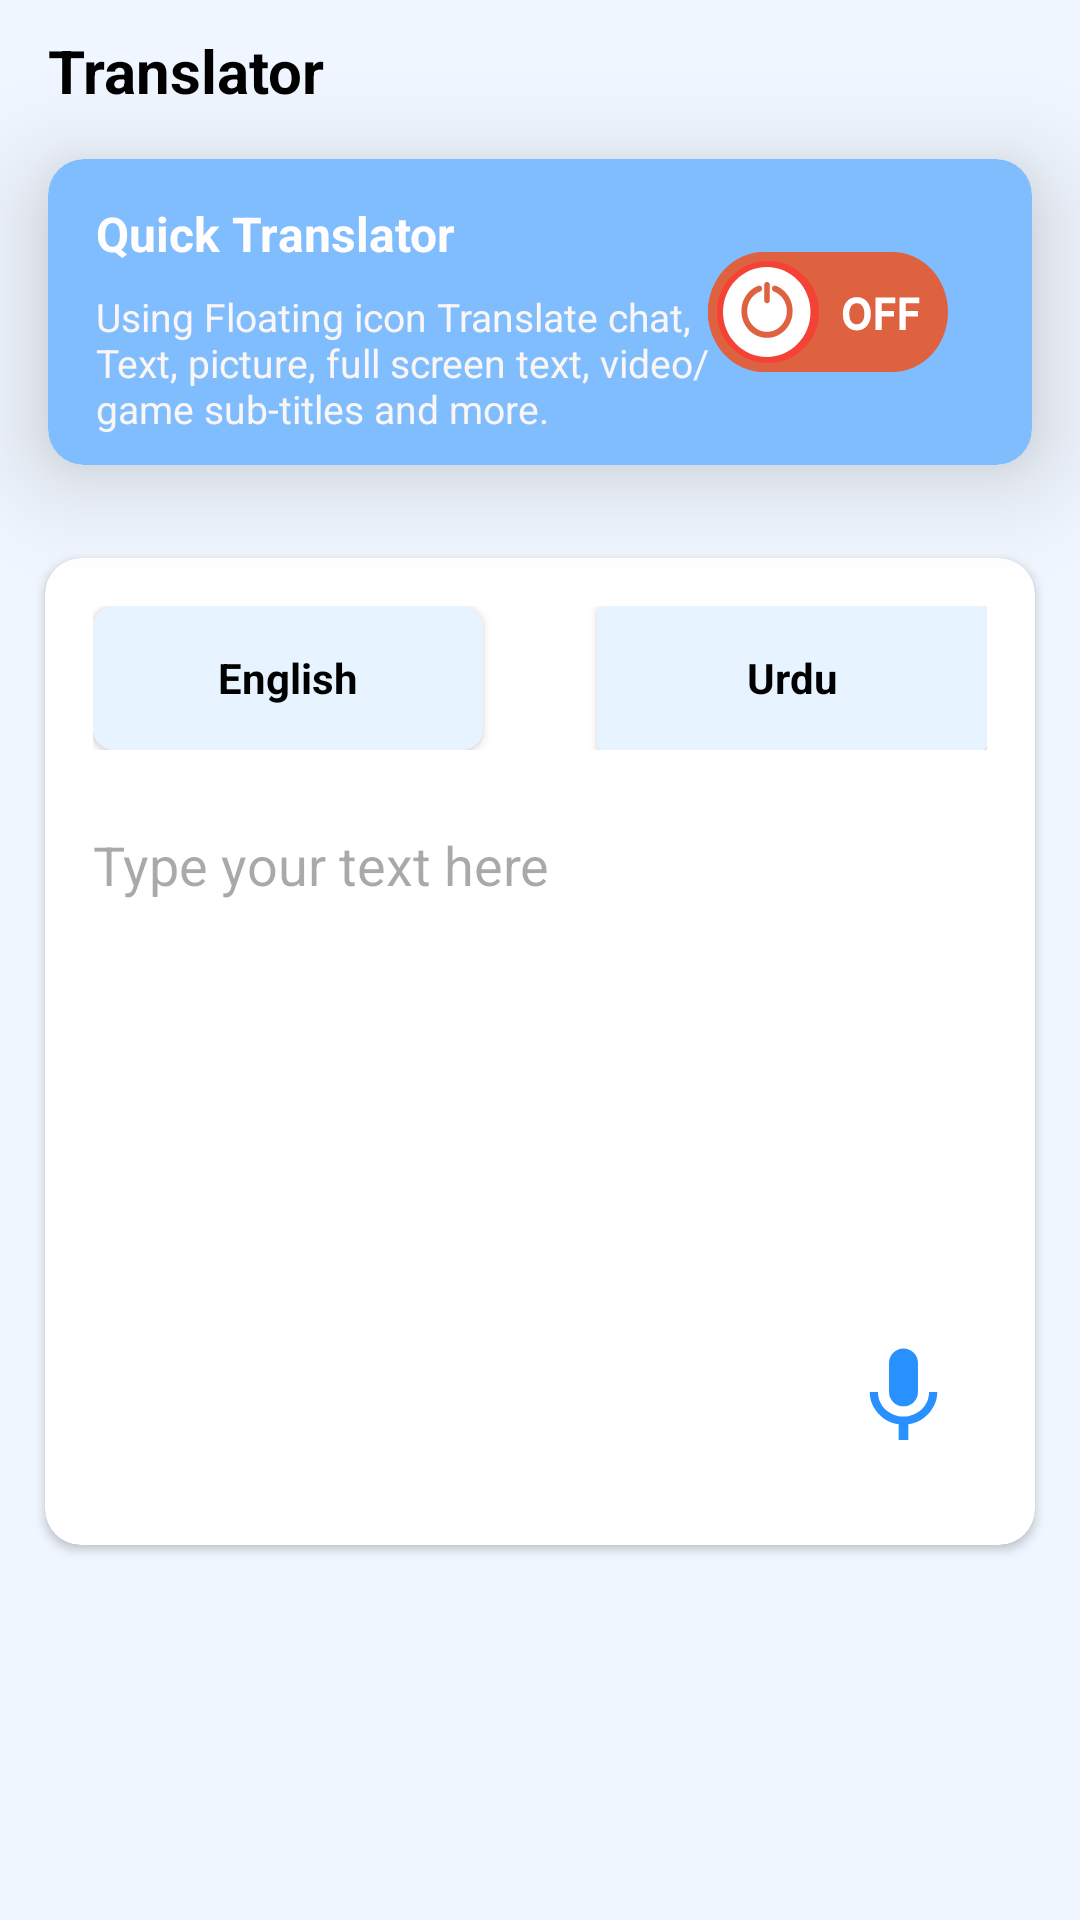

Named icons in this screenshot (1080w x 1920h) and their centers, (x,y):
voice: (903,1394)
